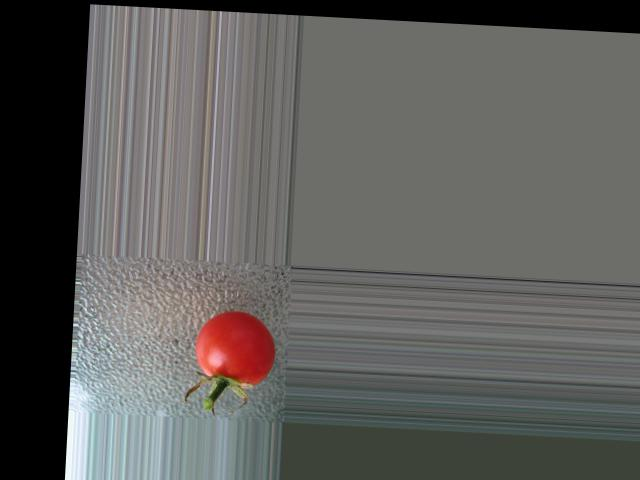tomato: (192, 308, 276, 386)
